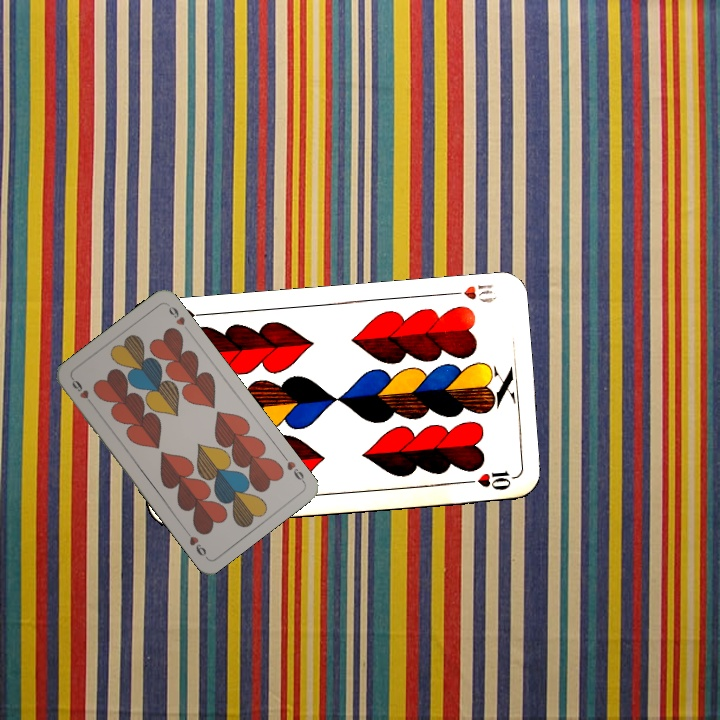H10: (441, 280, 499, 305)
H9: (68, 374, 97, 409), (283, 457, 308, 485)
